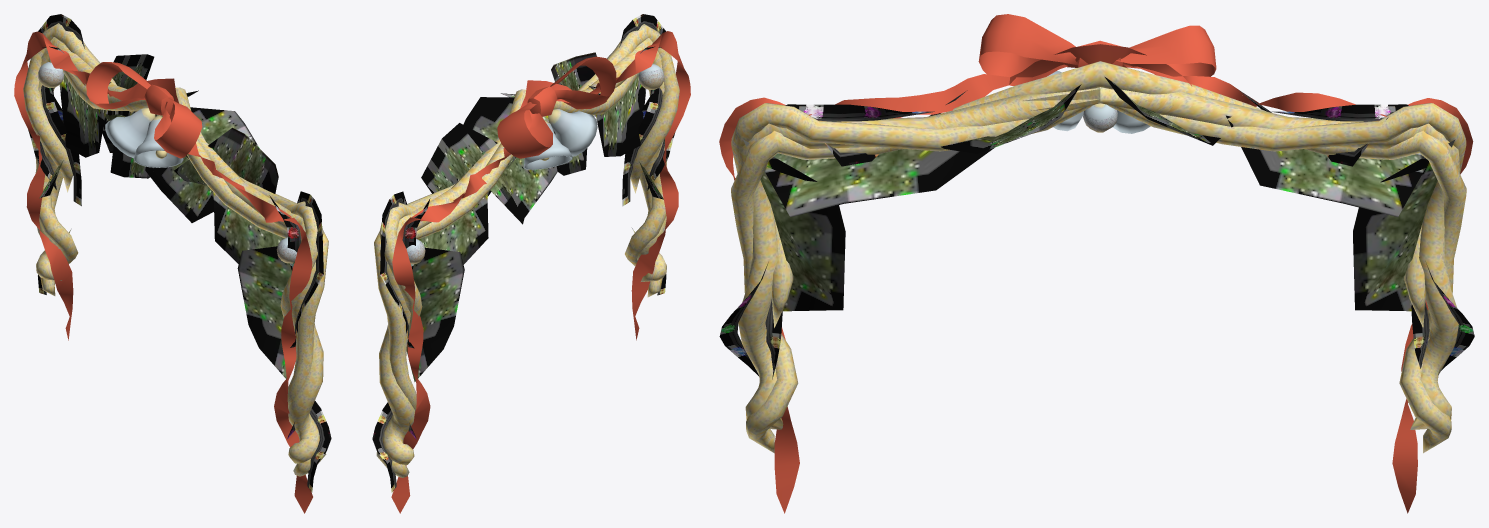
The model's file is frame_decor_door_double.glb.
The picture shows the model from 3 angles, left to right: view 1: azimuth 30°, elevation 25°; view 2: azimuth 150°, elevation 25°; view 3: azimuth 270°, elevation 25°; orthographic projection. The views are drawn at different scales.
Visible parts, largest first — view 1: double_door_garland_LOD0; view 2: double_door_garland_LOD0; view 3: double_door_garland_LOD0.
Part boxes in pixels (left/top/right/bottom): double_door_garland_LOD0: left=14, top=14, right=331, bottom=513; double_door_garland_LOD0: left=372, top=14, right=690, bottom=513; double_door_garland_LOD0: left=719, top=14, right=1474, bottom=513.
Bounding box in the file's own units: 0.5984 × 1.98 × 2.87.
Materials: 2 (2 with a texture image).
